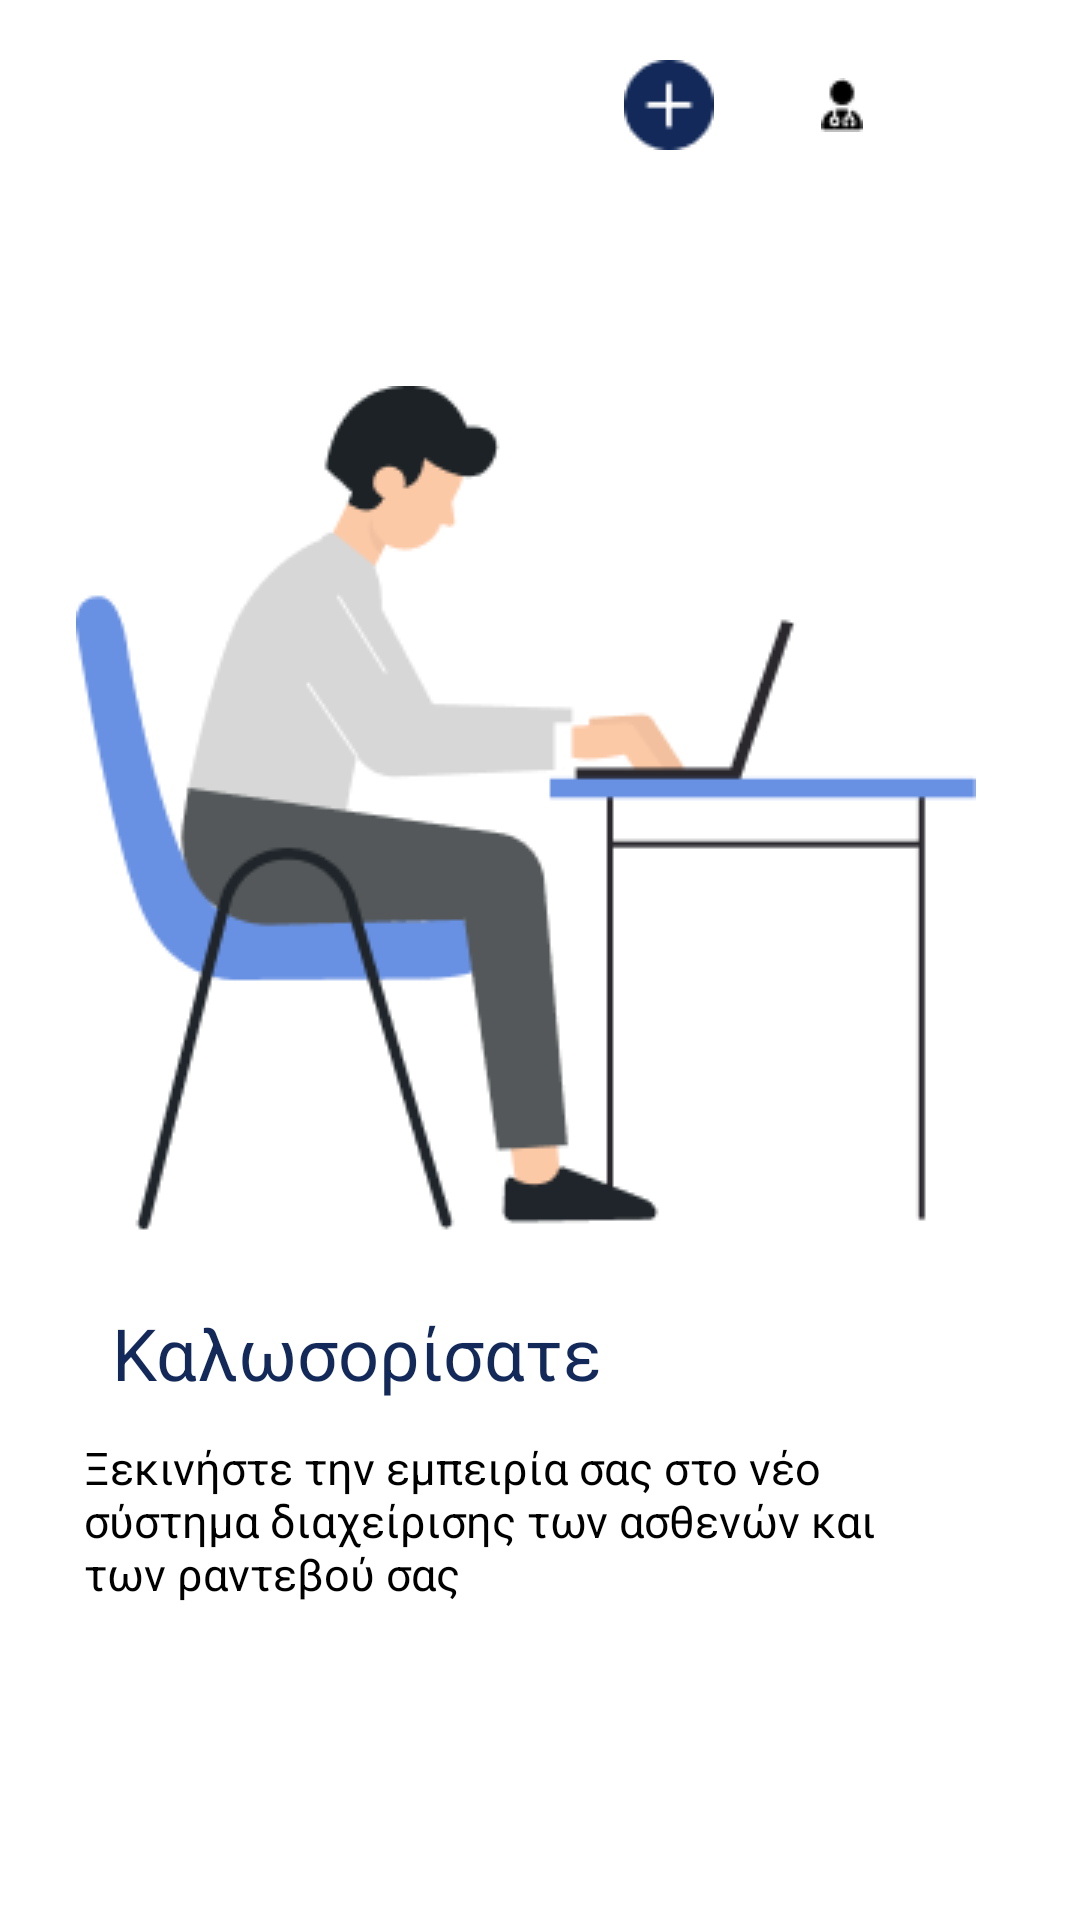

Screen size 1080 × 1920. Icon name, then its box in pixels as (x1, y1, x2, y2):
add: (624, 60, 714, 150)
profile: (821, 78, 863, 132)
